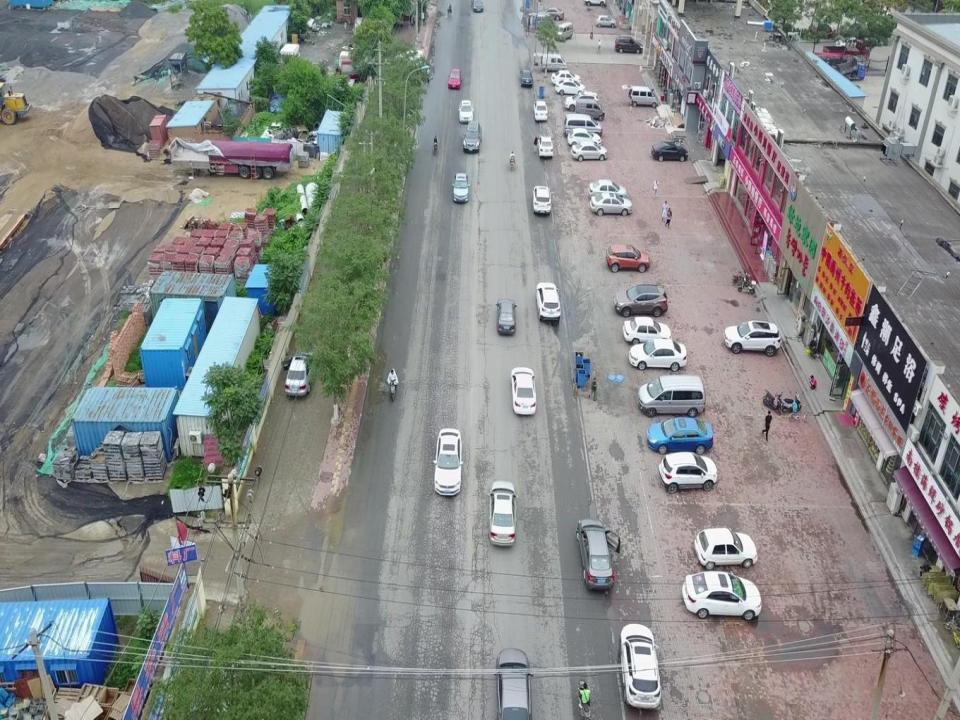car: (681, 572, 762, 621), (617, 622, 661, 710), (576, 518, 620, 592), (493, 646, 533, 720), (694, 527, 758, 570), (645, 417, 714, 455), (657, 451, 717, 494), (432, 427, 464, 497), (724, 320, 781, 357), (488, 480, 519, 548), (628, 338, 688, 372), (613, 283, 668, 318), (280, 350, 315, 397), (623, 316, 672, 346), (605, 244, 650, 273), (510, 366, 536, 415), (535, 281, 561, 325), (588, 192, 633, 216), (650, 141, 689, 163), (496, 298, 518, 336), (588, 179, 627, 200), (567, 127, 602, 150), (570, 141, 608, 162), (564, 90, 598, 111), (462, 120, 482, 154), (555, 77, 586, 96), (532, 185, 552, 214), (614, 34, 643, 54), (452, 172, 470, 204), (551, 68, 581, 86), (538, 4, 565, 21), (537, 135, 554, 160), (458, 99, 474, 124), (594, 13, 618, 28), (532, 100, 548, 121), (448, 68, 462, 89), (519, 68, 533, 88), (834, 37, 858, 48), (471, 0, 483, 13)
truck: (168, 136, 294, 180), (823, 40, 870, 56), (835, 56, 865, 80)
van: (636, 374, 706, 416), (562, 113, 603, 139), (621, 83, 659, 109), (532, 51, 568, 72), (574, 98, 605, 121), (527, 12, 553, 30), (554, 22, 574, 42)
